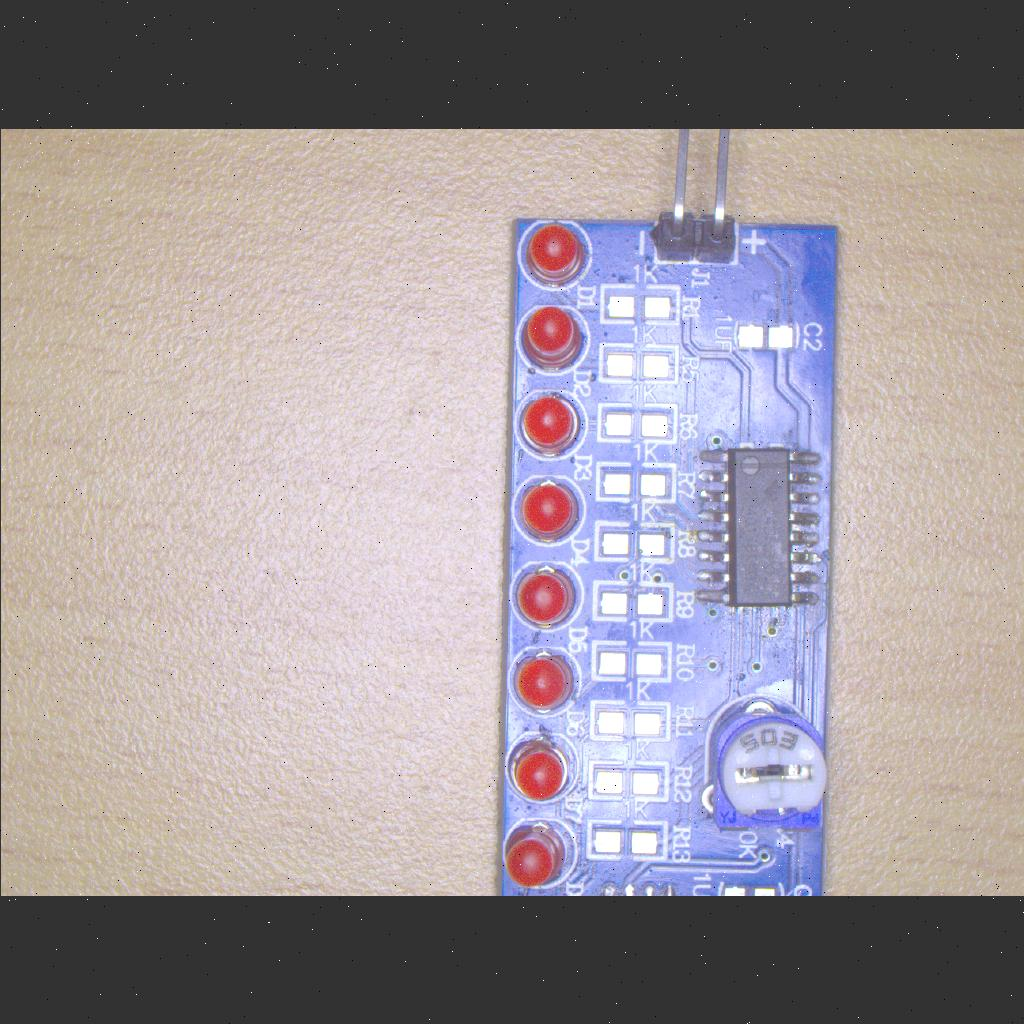NG: (591, 457, 677, 509), (583, 758, 673, 806), (588, 519, 676, 567), (582, 818, 672, 864), (584, 698, 674, 744), (587, 638, 675, 684), (592, 400, 680, 446), (588, 576, 676, 622), (592, 340, 682, 384), (594, 282, 682, 326), (730, 318, 804, 358), (714, 882, 784, 896)
OK: (688, 438, 828, 612)
